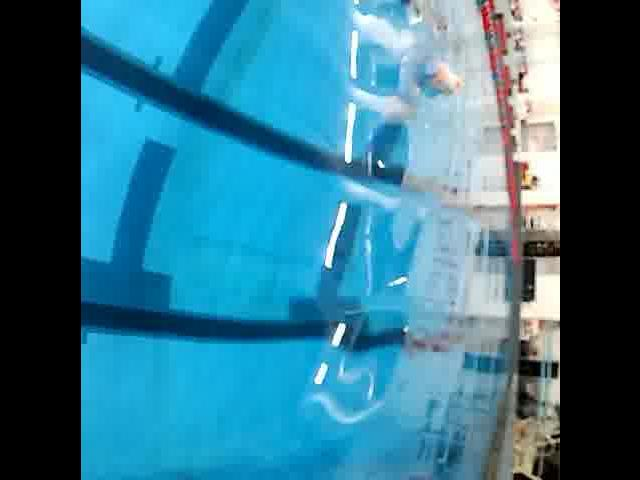Bottle: (411, 48, 468, 103)
